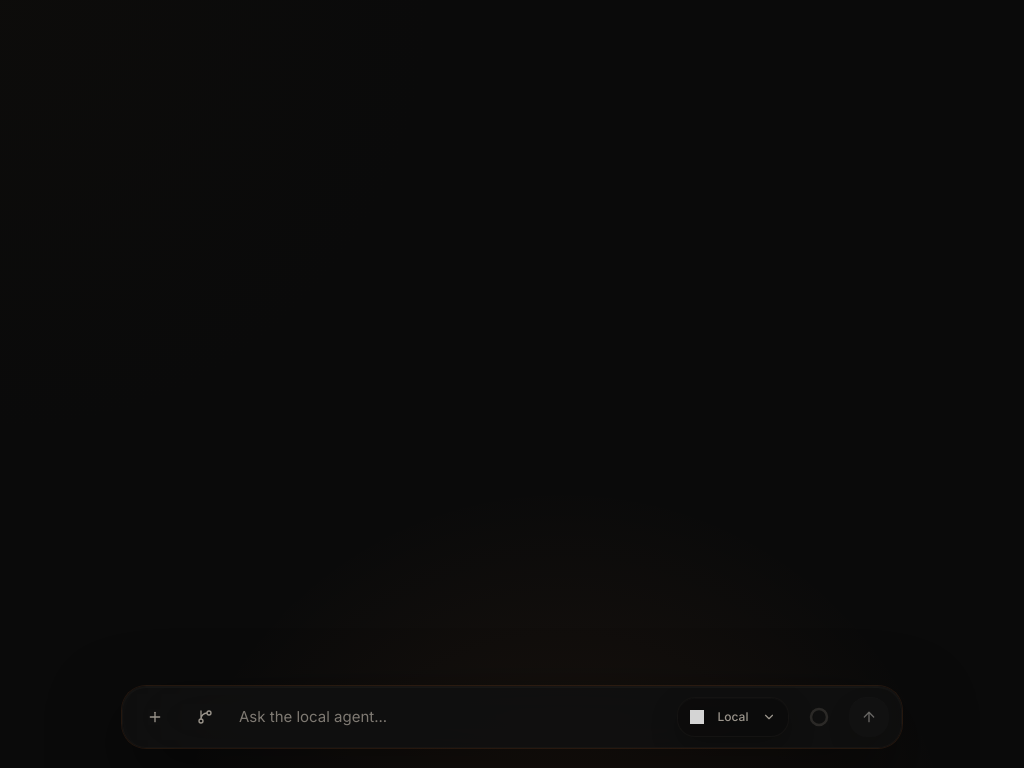
InputDock › opens the branch panel from the composer
Step 1. Click the button named "branches" → (205, 717), box x1=185 y1=697 x2=225 y2=737
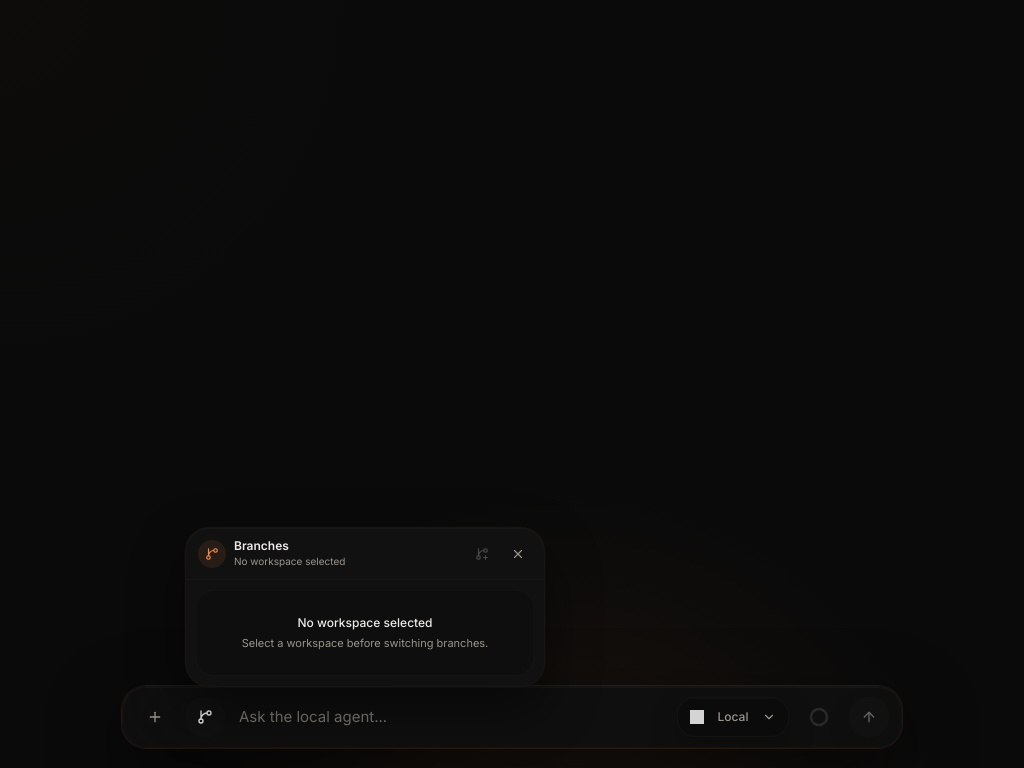
Check: the dialog with test id "branch-switcher-panel" is shown, box x1=185 y1=527 x2=545 y2=687
Check: the 1st text "No workspace selected" is shown, box x1=234 y1=555 x2=345 y2=567
